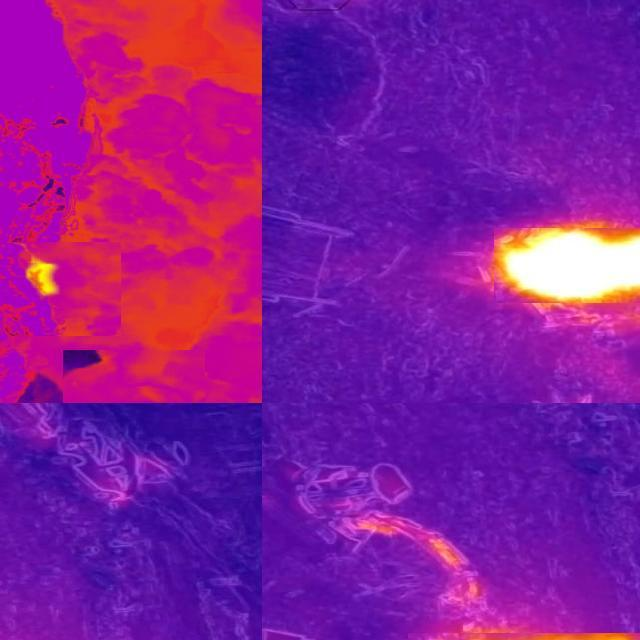fire: (494, 229, 640, 304), (455, 619, 640, 640), (16, 245, 78, 306)
